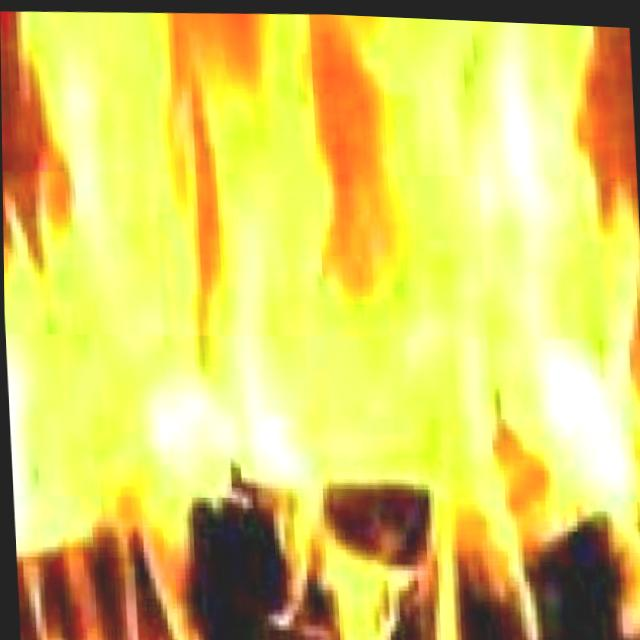fire: (0, 0, 640, 618)
